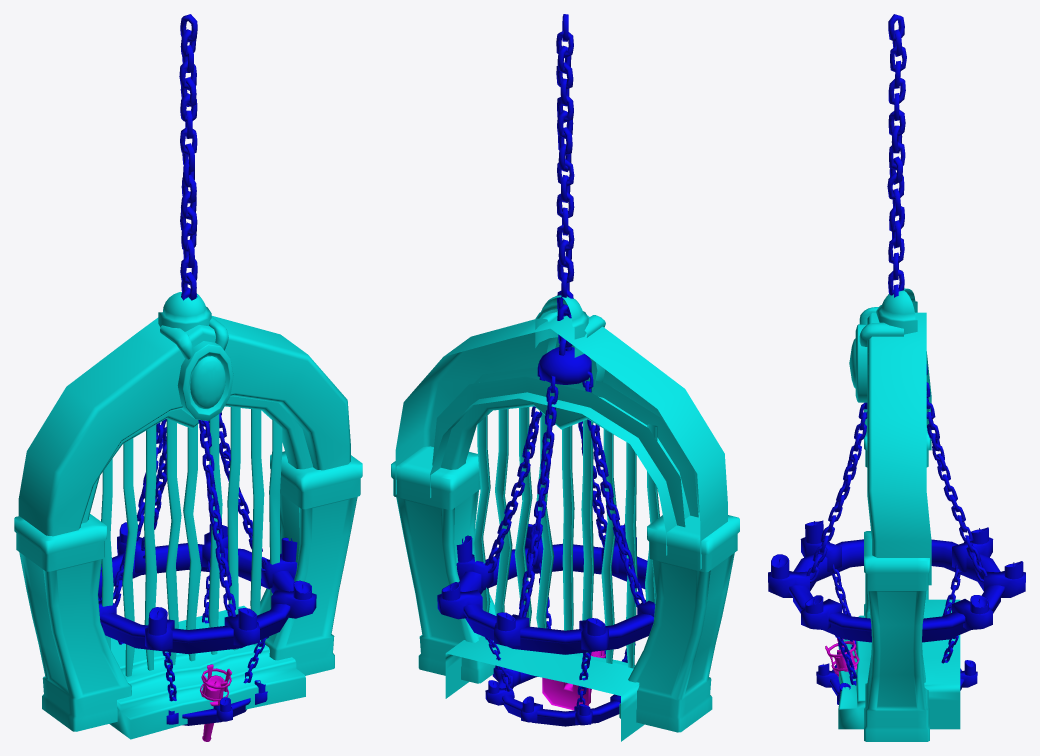
File: Illumination_M_Export.fbx
3 renders of one model, left to right at view 1: azimuth 30°, elevation 25°; view 2: azimuth 150°, elevation 25°; view 3: azimuth 270°, elevation 25°, orthographic.
Visible parts, largest first — view 1: Gate, Chandelier, GateBlock, GateCrystal, Torch; view 2: Gate, Chandelier, GateBlock, Torch; view 3: Gate, Chandelier, Torch.
Boxes of the visible parts, x1,y1,x2,y2 form: Gate: (14,292,362,739); Chandelier: (98,14,316,725); GateBlock: (101,407,282,676); GateCrystal: (190,356,225,408); Torch: (200,664,231,741); Gate: (391,295,739,741); Chandelier: (437,14,655,726); GateBlock: (473,382,659,668); Torch: (542,650,605,710); Gate: (838,288,960,741); Chandelier: (768,14,1025,704); Torch: (825,638,859,676).
Size of the model in its own units: 7.25 by 15.55 by 5.17.
